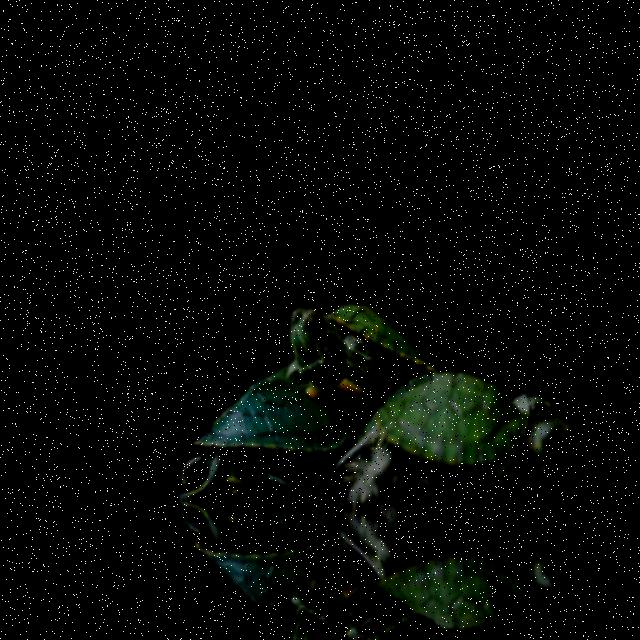tortoise: (336, 370, 564, 524), (172, 370, 340, 502), (264, 308, 422, 404)
